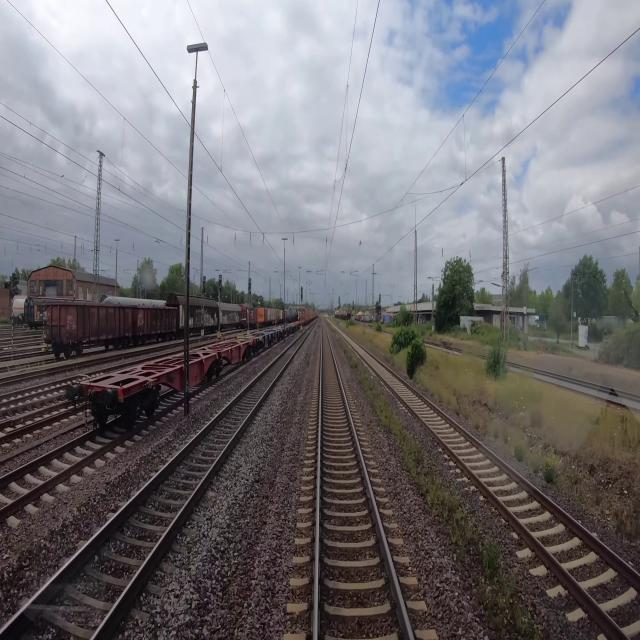Plant: (359, 374, 476, 560), (475, 537, 543, 638), (344, 346, 358, 367)
